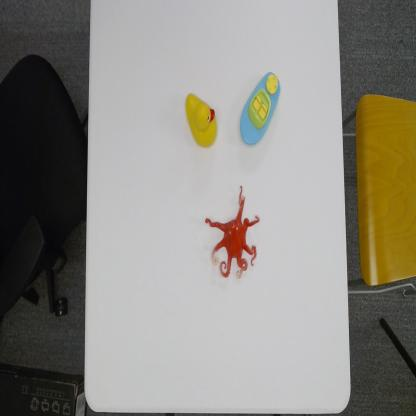Boat: (238, 68, 282, 147)
Duck: (184, 90, 218, 151)
Octopus: (204, 185, 263, 279)
